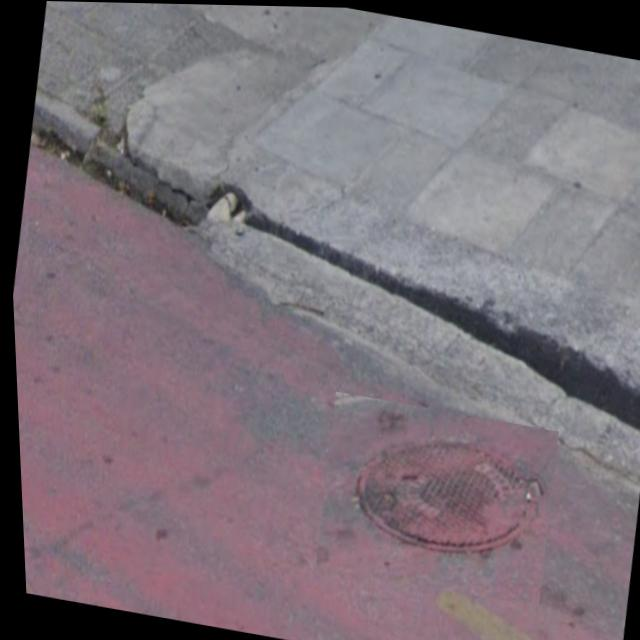Bueiro: (304, 390, 561, 605)
